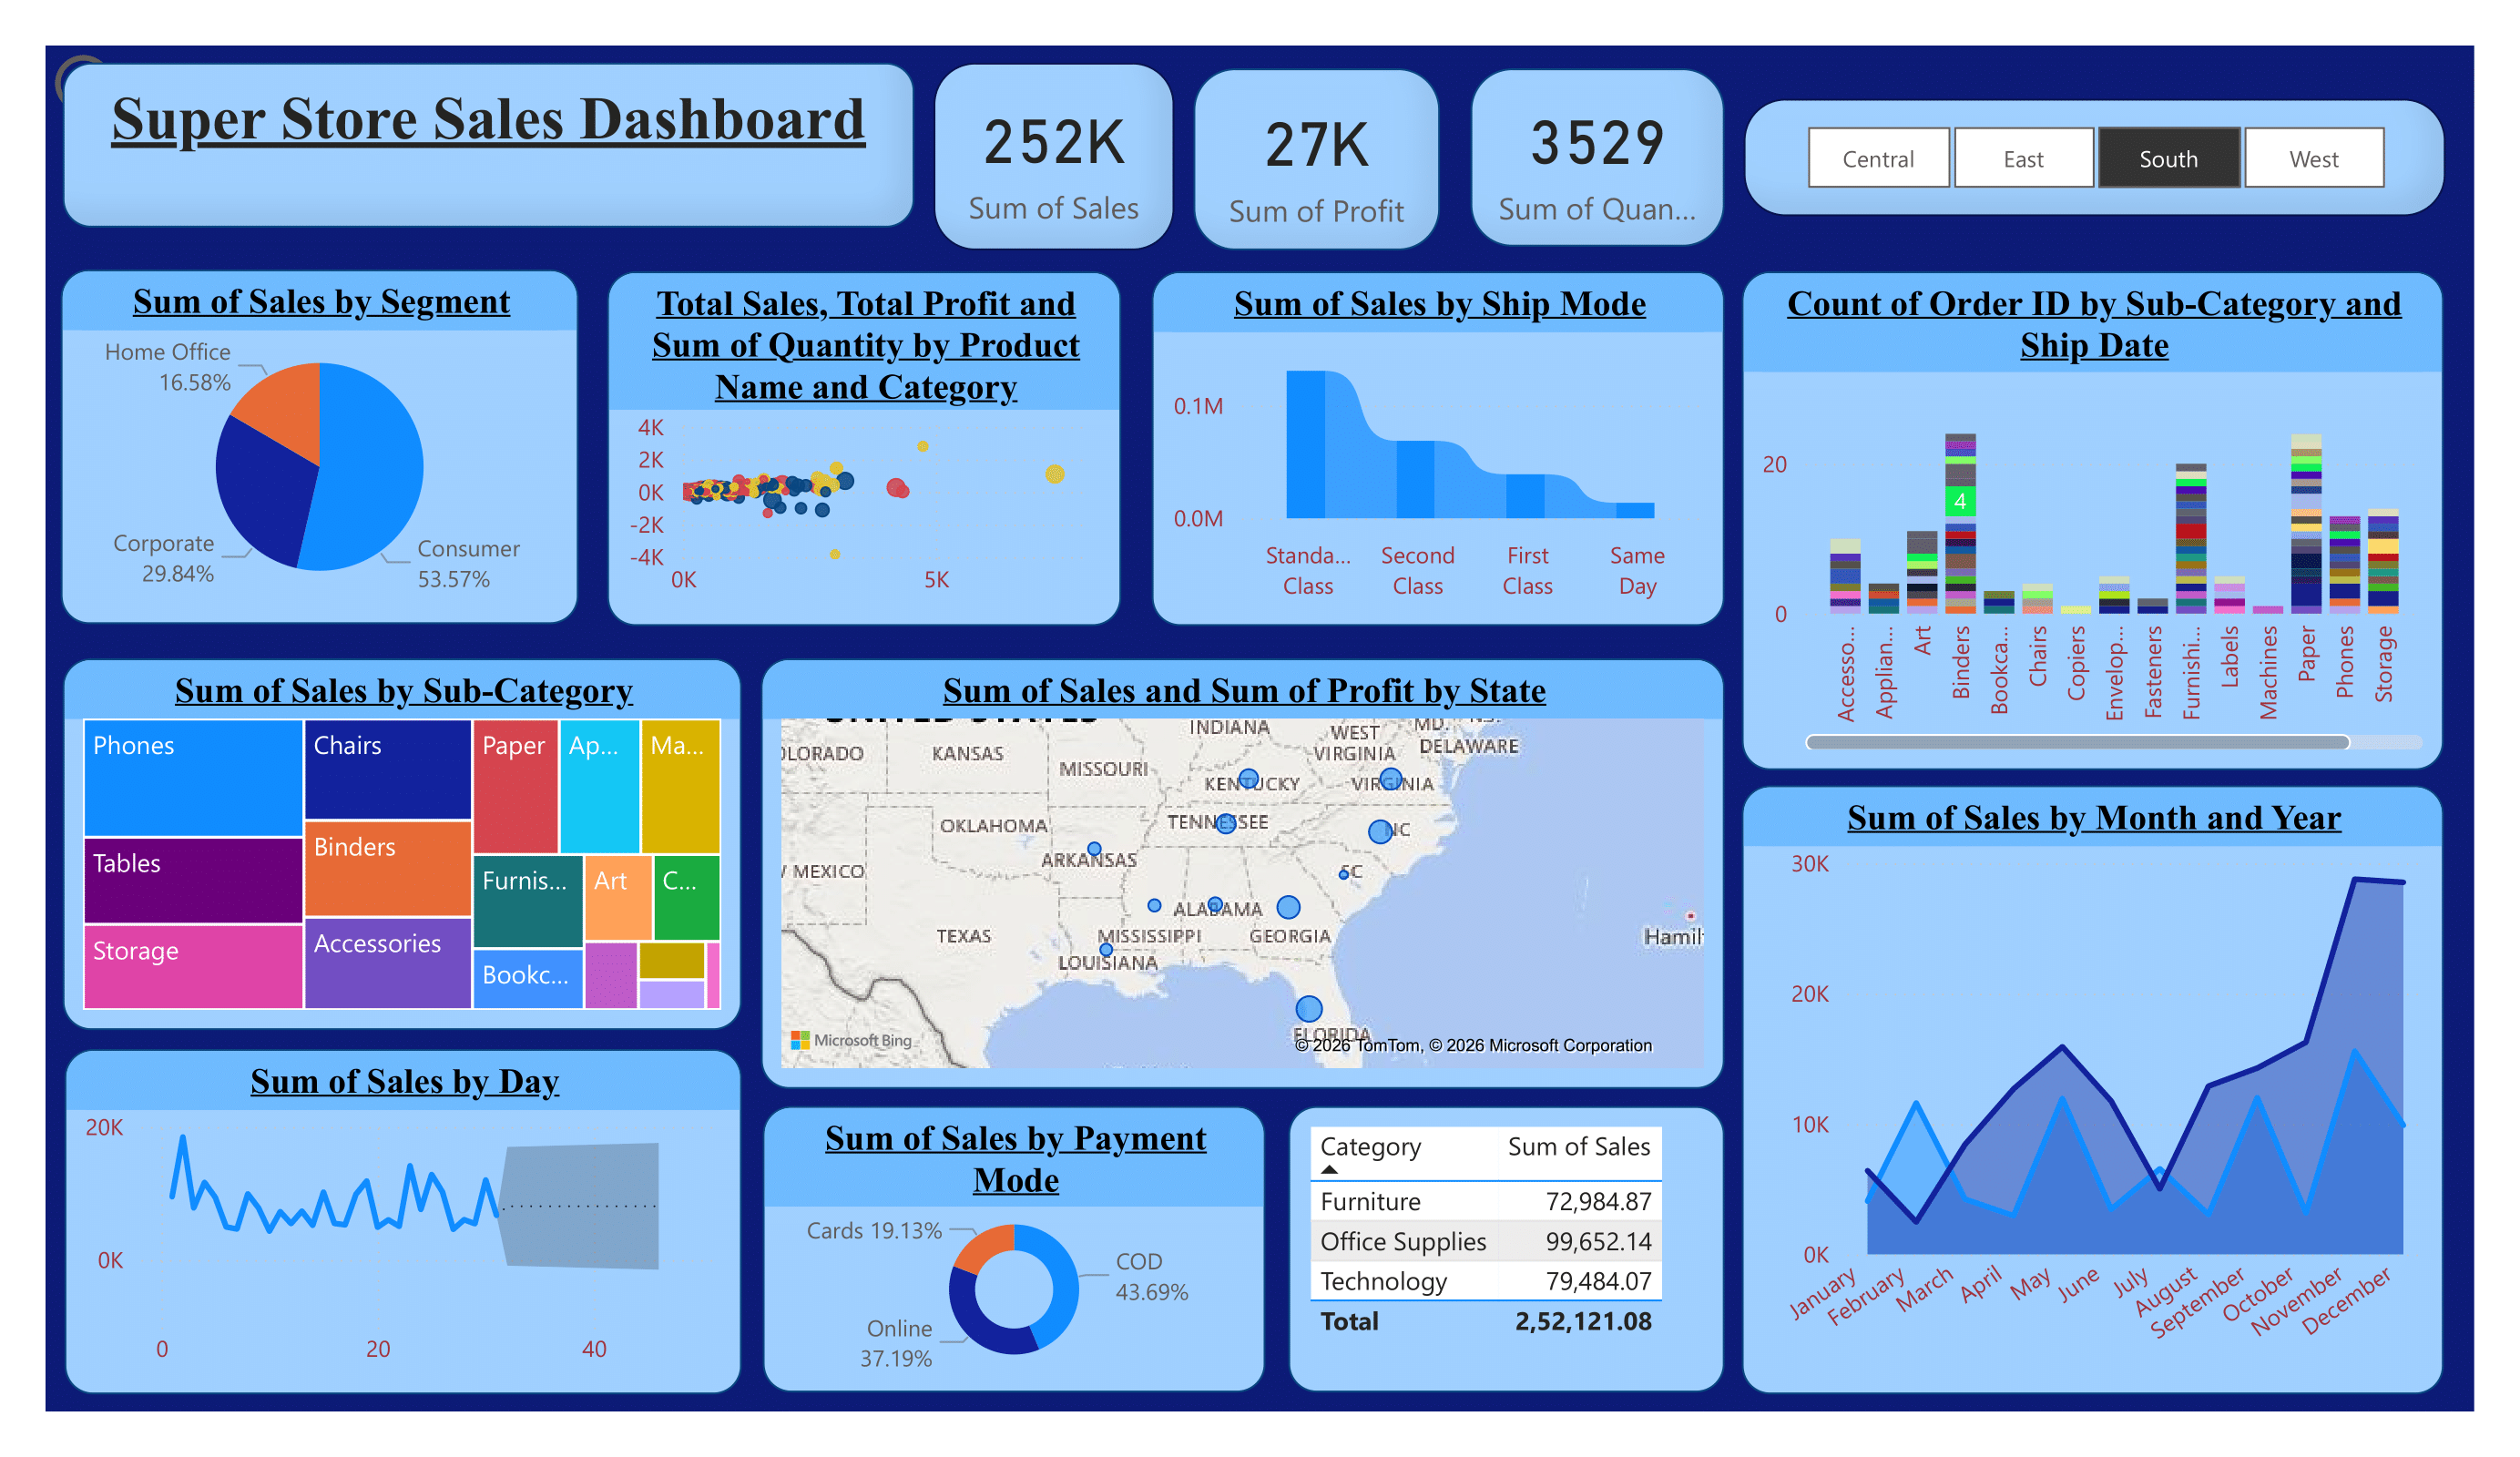

The page's visual inventory and layout, read from the dashboard file:
{"tool":"powerbi","page":{"name":"Page 1","canvas":[1280,720],"ordinal":0},"visuals":[{"type":"tableEx","fields":{"Values":["SuperStore_Sales_Dataset.Category","Sum(SuperStore_Sales_Dataset.Sales)"]},"box":[655.2,559.4,229.8,150.5],"z":0},{"type":"treemap","fields":{"Group":["SuperStore_Sales_Dataset.Sub-Category","SuperStore_Sales_Dataset.Category"],"Values":["Sum(SuperStore_Sales_Dataset.Sales)"]},"box":[9,323.1,357.7,196.2],"z":1000},{"type":"areaChart","fields":{"Category":["SuperStore_Sales_Dataset.Order Date.Variation.Date Hierarchy.Month","SuperStore_Sales_Dataset.Order Date.Variation.Date Hierarchy.Day"],"Y":["Sum(SuperStore_Sales_Dataset.Sales)"],"Series":["SuperStore_Sales_Dataset.Order Date.Variation.Date Hierarchy.Year"]},"box":[894,389.7,370.4,320.9],"z":2000},{"type":"map","fields":{"Category":["SuperStore_Sales_Dataset.State"],"Size":["Sum(SuperStore_Sales_Dataset.Sales)"]},"box":[376.9,323.1,507.7,226.9],"z":3000},{"type":"actionButton","box":[0,0,100,40],"z":4000},{"type":"donutChart","fields":{"Y":["Sum(SuperStore_Sales_Dataset.Sales)"],"Category":["SuperStore_Sales_Dataset.Payment Mode","SuperStore_Sales_Dataset.Segment"]},"box":[377.5,559.4,265.4,150.5],"z":5000},{"type":"slicer","fields":{"Values":["SuperStore_Sales_Dataset.Region"]},"box":[894.9,28.2,370.5,61.5],"z":6000},{"type":"textbox","box":[9,9,448.7,87.2],"z":7000},{"type":"card","fields":{"Values":["Sum(SuperStore_Sales_Dataset.Sales)"]},"box":[467.9,9,126.9,98.7],"z":8000},{"type":"card","fields":{"Values":["Sum(SuperStore_Sales_Dataset.Quantity)"]},"box":[751.3,11.5,133.3,94.9],"z":9000},{"type":"card","fields":{"Values":["Sum(SuperStore_Sales_Dataset.Profit)"]},"box":[605.1,11.5,129.5,96.2],"z":10000},{"type":"lineChart","fields":{"Category":["SuperStore_Sales_Dataset.Order Date.Variation.Date Hierarchy.Day"],"Y":["Sum(SuperStore_Sales_Dataset.Sales)"]},"box":[9.6,529.3,357,181.9],"z":11000},{"type":"columnChart","fields":{"Category":["SuperStore_Sales_Dataset.Sub-Category"],"Y":["CountNonNull(SuperStore_Sales_Dataset.Order ID)"],"Series":["SuperStore_Sales_Dataset.Ship Date"]},"box":[893.6,119.2,370.5,262.8],"z":12000},{"type":"ribbonChart","fields":{"Category":["SuperStore_Sales_Dataset.Ship Mode"],"Y":["Sum(SuperStore_Sales_Dataset.Sales)"]},"box":[583.3,119.2,301.3,187.2],"z":13000},{"type":"scatterChart","fields":{"Category":["SuperStore_Sales_Dataset.Product Name","SuperStore_Sales_Dataset.Order Date.Variation.Date Hierarchy.Month"],"X":["SuperStore_Sales_Dataset.Total Sales"],"Y":["SuperStore_Sales_Dataset.Total Profit"],"Size":["Sum(SuperStore_Sales_Dataset.Quantity)"],"Series":["SuperStore_Sales_Dataset.Category"]},"box":[296.2,119.2,270.5,187.2],"z":14000},{"type":"pieChart","fields":{"Y":["Sum(SuperStore_Sales_Dataset.Sales)"],"Category":["SuperStore_Sales_Dataset.Segment"]},"box":[8.4,118.2,272.7,187],"z":15000}]}

Visuals, with their boxes on the page's 1280x720 design canvas (x1, y1, x2, y2). These are canvas units, not pixel positions in the 2520x1457 screenshot, which may show the page scaled, cropped or inside an application window:
tableEx - SuperStore_Sales_Dataset.Category x Sum(SuperStore_Sales_Dataset.Sales): (x1=655, y1=559, x2=885, y2=710)
treemap - SuperStore_Sales_Dataset.Sub-Category x SuperStore_Sales_Dataset.Category: (x1=9, y1=323, x2=367, y2=519)
areaChart - SuperStore_Sales_Dataset.Order Date.Variation.Date Hierarchy.Month x SuperStore_Sales_Dataset.Order Date.Variation.Date Hierarchy.Day: (x1=894, y1=390, x2=1264, y2=711)
map - SuperStore_Sales_Dataset.State x Sum(SuperStore_Sales_Dataset.Sales): (x1=377, y1=323, x2=885, y2=550)
actionButton: (x1=0, y1=0, x2=100, y2=40)
donutChart - Sum(SuperStore_Sales_Dataset.Sales) x SuperStore_Sales_Dataset.Payment Mode: (x1=378, y1=559, x2=643, y2=710)
slicer - SuperStore_Sales_Dataset.Region: (x1=895, y1=28, x2=1265, y2=90)
textbox: (x1=9, y1=9, x2=458, y2=96)
card - Sum(SuperStore_Sales_Dataset.Sales): (x1=468, y1=9, x2=595, y2=108)
card - Sum(SuperStore_Sales_Dataset.Quantity): (x1=751, y1=12, x2=885, y2=106)
card - Sum(SuperStore_Sales_Dataset.Profit): (x1=605, y1=12, x2=735, y2=108)
lineChart - SuperStore_Sales_Dataset.Order Date.Variation.Date Hierarchy.Day x Sum(SuperStore_Sales_Dataset.Sales): (x1=10, y1=529, x2=367, y2=711)
columnChart - SuperStore_Sales_Dataset.Sub-Category x CountNonNull(SuperStore_Sales_Dataset.Order ID): (x1=894, y1=119, x2=1264, y2=382)
ribbonChart - SuperStore_Sales_Dataset.Ship Mode x Sum(SuperStore_Sales_Dataset.Sales): (x1=583, y1=119, x2=885, y2=306)
scatterChart - SuperStore_Sales_Dataset.Product Name x SuperStore_Sales_Dataset.Order Date.Variation.Date Hierarchy.Month: (x1=296, y1=119, x2=567, y2=306)
pieChart - Sum(SuperStore_Sales_Dataset.Sales) x SuperStore_Sales_Dataset.Segment: (x1=8, y1=118, x2=281, y2=305)
